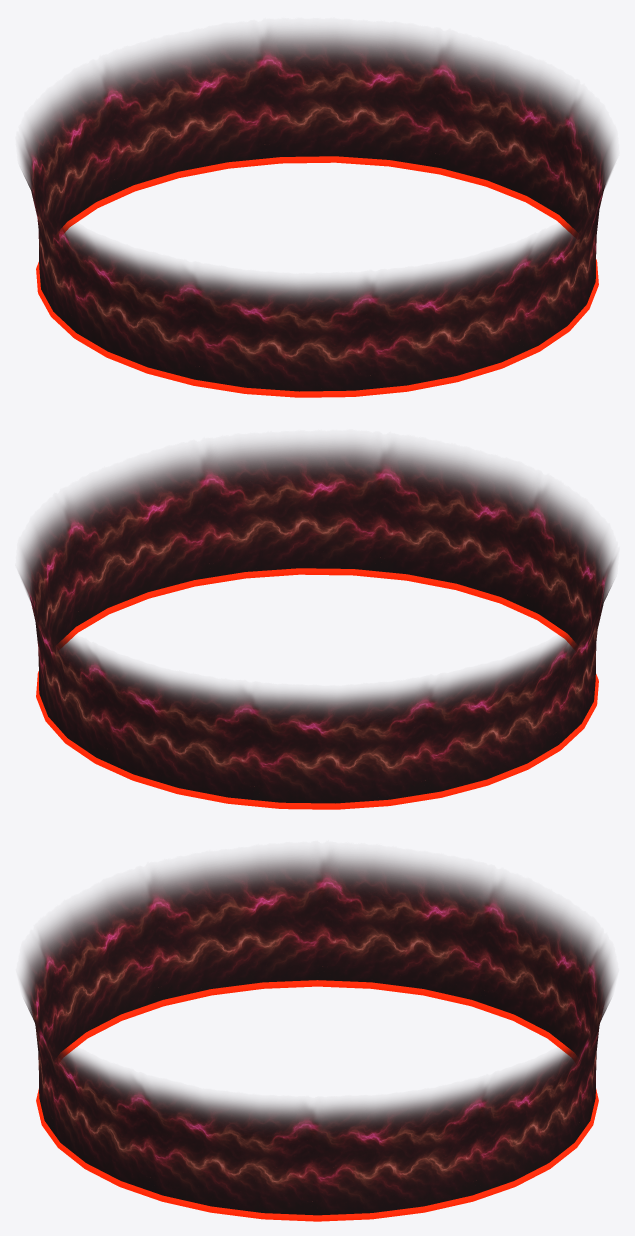
File: br_ring_void.glb
3 renders of one model, top to bottom at view 1: azimuth 30°, elevation 25°; view 2: azimuth 150°, elevation 25°; view 3: azimuth 270°, elevation 25°, orthographic.
Parts seen in each view (by area): view 1: br_void_ring; view 2: br_void_ring; view 3: br_void_ring.
Boxes of the visible parts, left/top/right/bottom form: br_void_ring: left=20, top=28, right=614, bottom=397; br_void_ring: left=19, top=441, right=615, bottom=809; br_void_ring: left=20, top=851, right=614, bottom=1221.
Bounding box in the file's own units: 28.75 × 7.17 × 28.75.
2 materials, 1 textured.
